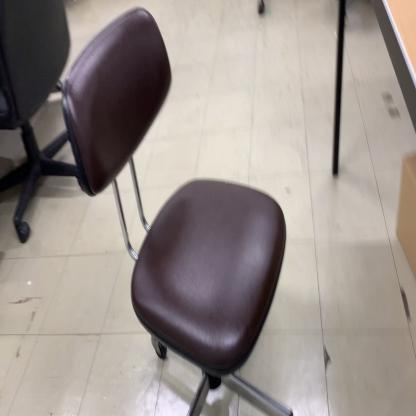chair: (60, 6, 294, 416), (0, 0, 89, 245)
